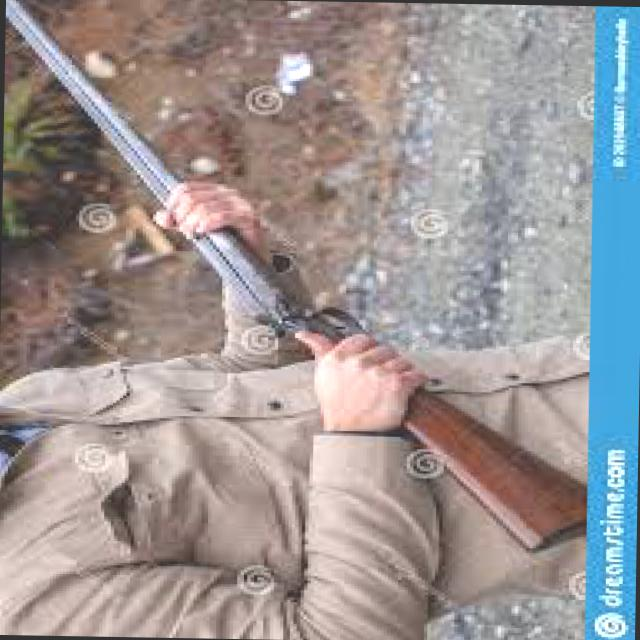long weapon: (5, 0, 606, 559)
